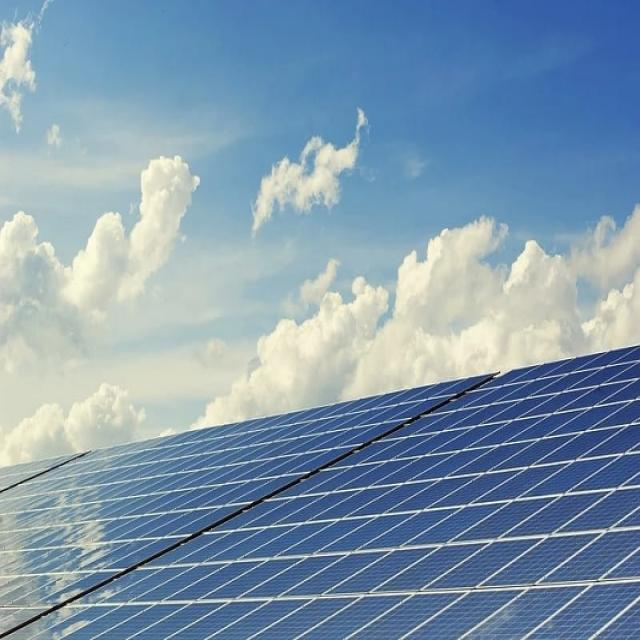clean-solar-panel: (1, 345, 640, 638)
